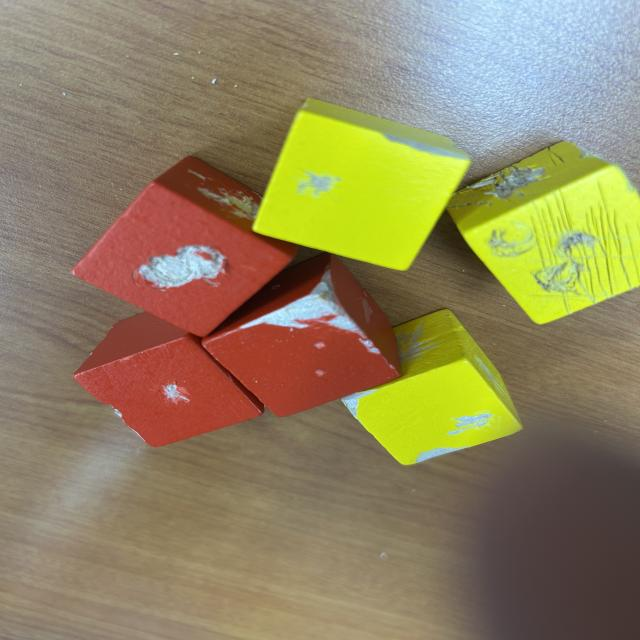broken: (69, 156, 304, 334), (252, 98, 472, 270), (444, 143, 637, 324), (200, 258, 401, 418), (344, 309, 524, 465), (71, 308, 270, 446)
